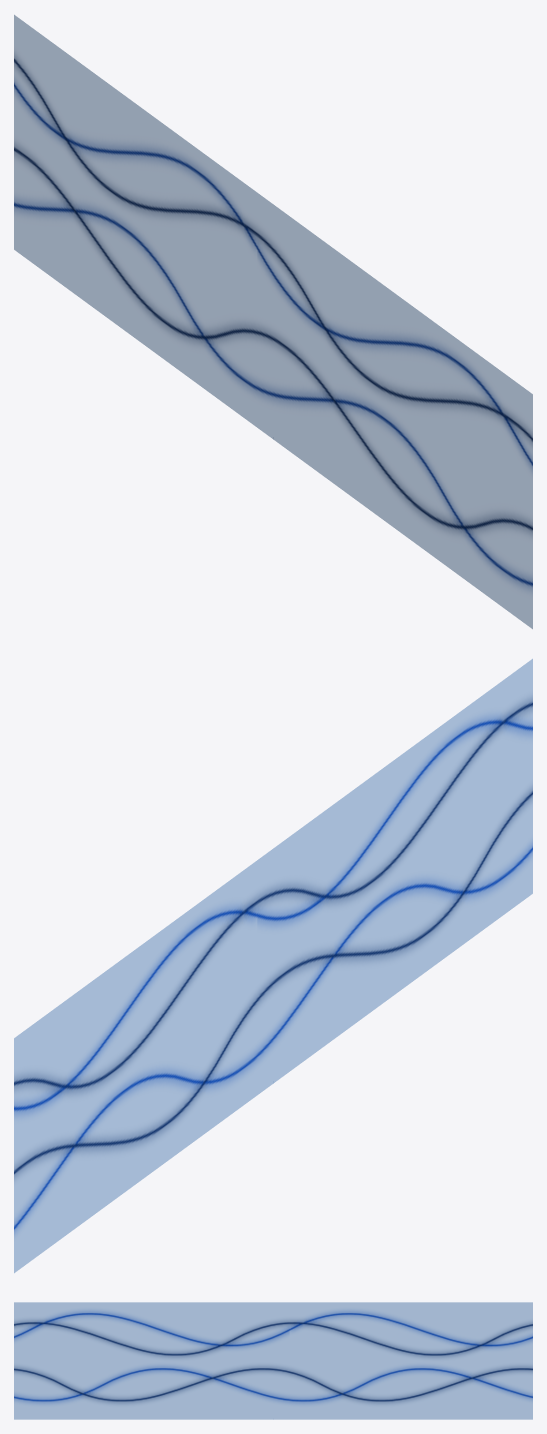
Rendered from PanelDisplay.002.glb.
The picture shows the model from 3 angles, top to bottom: view 1: azimuth 30°, elevation 25°; view 2: azimuth 150°, elevation 25°; view 3: azimuth 270°, elevation 25°; orthographic projection. The views are drawn at different scales.
Parts seen in each view (by area): view 1: blueZipper_effect.png__; view 2: blueZipper_effect.png__; view 3: blueZipper_effect.png__.
Part boxes in pixels (left/top/right/bottom): blueZipper_effect.png__: left=14, top=15, right=532, bottom=628; blueZipper_effect.png__: left=14, top=659, right=532, bottom=1272; blueZipper_effect.png__: left=14, top=1302, right=532, bottom=1419.
Bounding box in the file's own units: 2.38e-07 × 4 × 16.
Materials: 1 (1 with a texture image).
